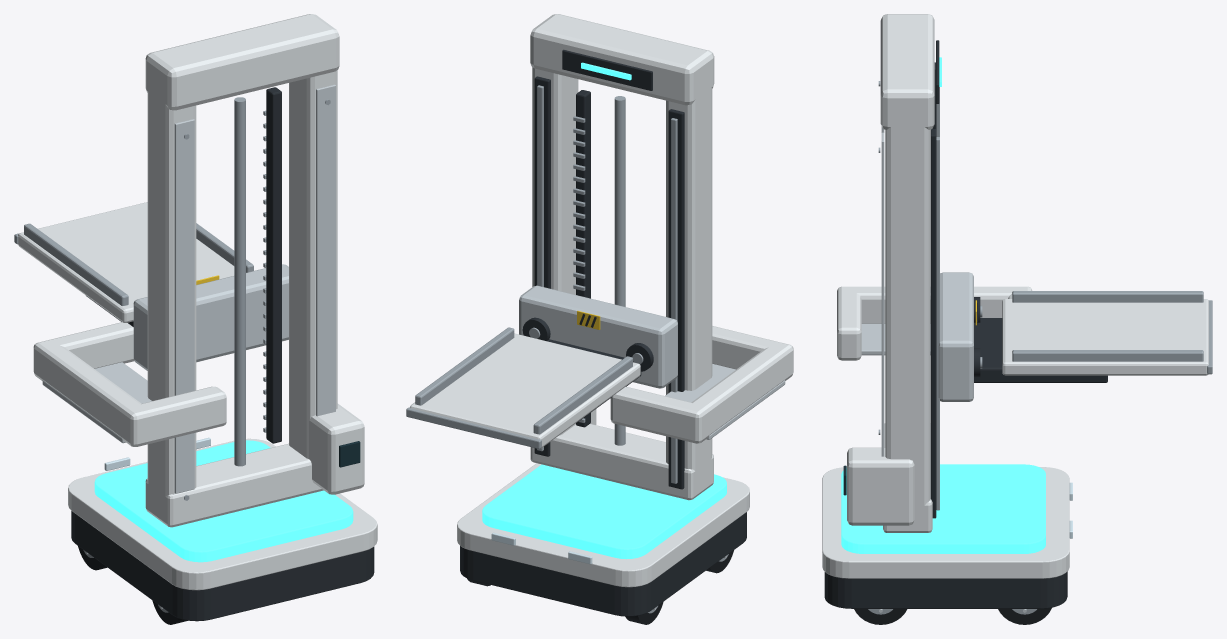
Rendered from SM_VR_WhiteRackRobot.fbx.
3 renders of one model, left to right at view 1: azimuth 30°, elevation 25°; view 2: azimuth 150°, elevation 25°; view 3: azimuth 270°, elevation 25°, orthographic. The views are drawn at different scales.
Parts seen in each view (by area): view 1: SM_VR_WhiteRackRobot; view 2: SM_VR_WhiteRackRobot; view 3: SM_VR_WhiteRackRobot.
Boxes of the visible parts, x1,y1,x2,y2 form: SM_VR_WhiteRackRobot: (14, 14, 377, 624); SM_VR_WhiteRackRobot: (406, 14, 793, 624); SM_VR_WhiteRackRobot: (822, 14, 1212, 624).
Bounding box in the file's own units: 123 × 174 × 260.
